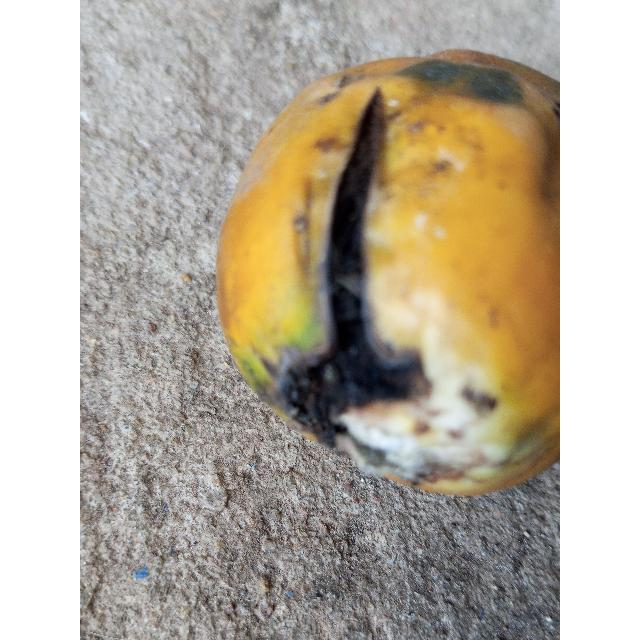damaged: (217, 51, 560, 495)
